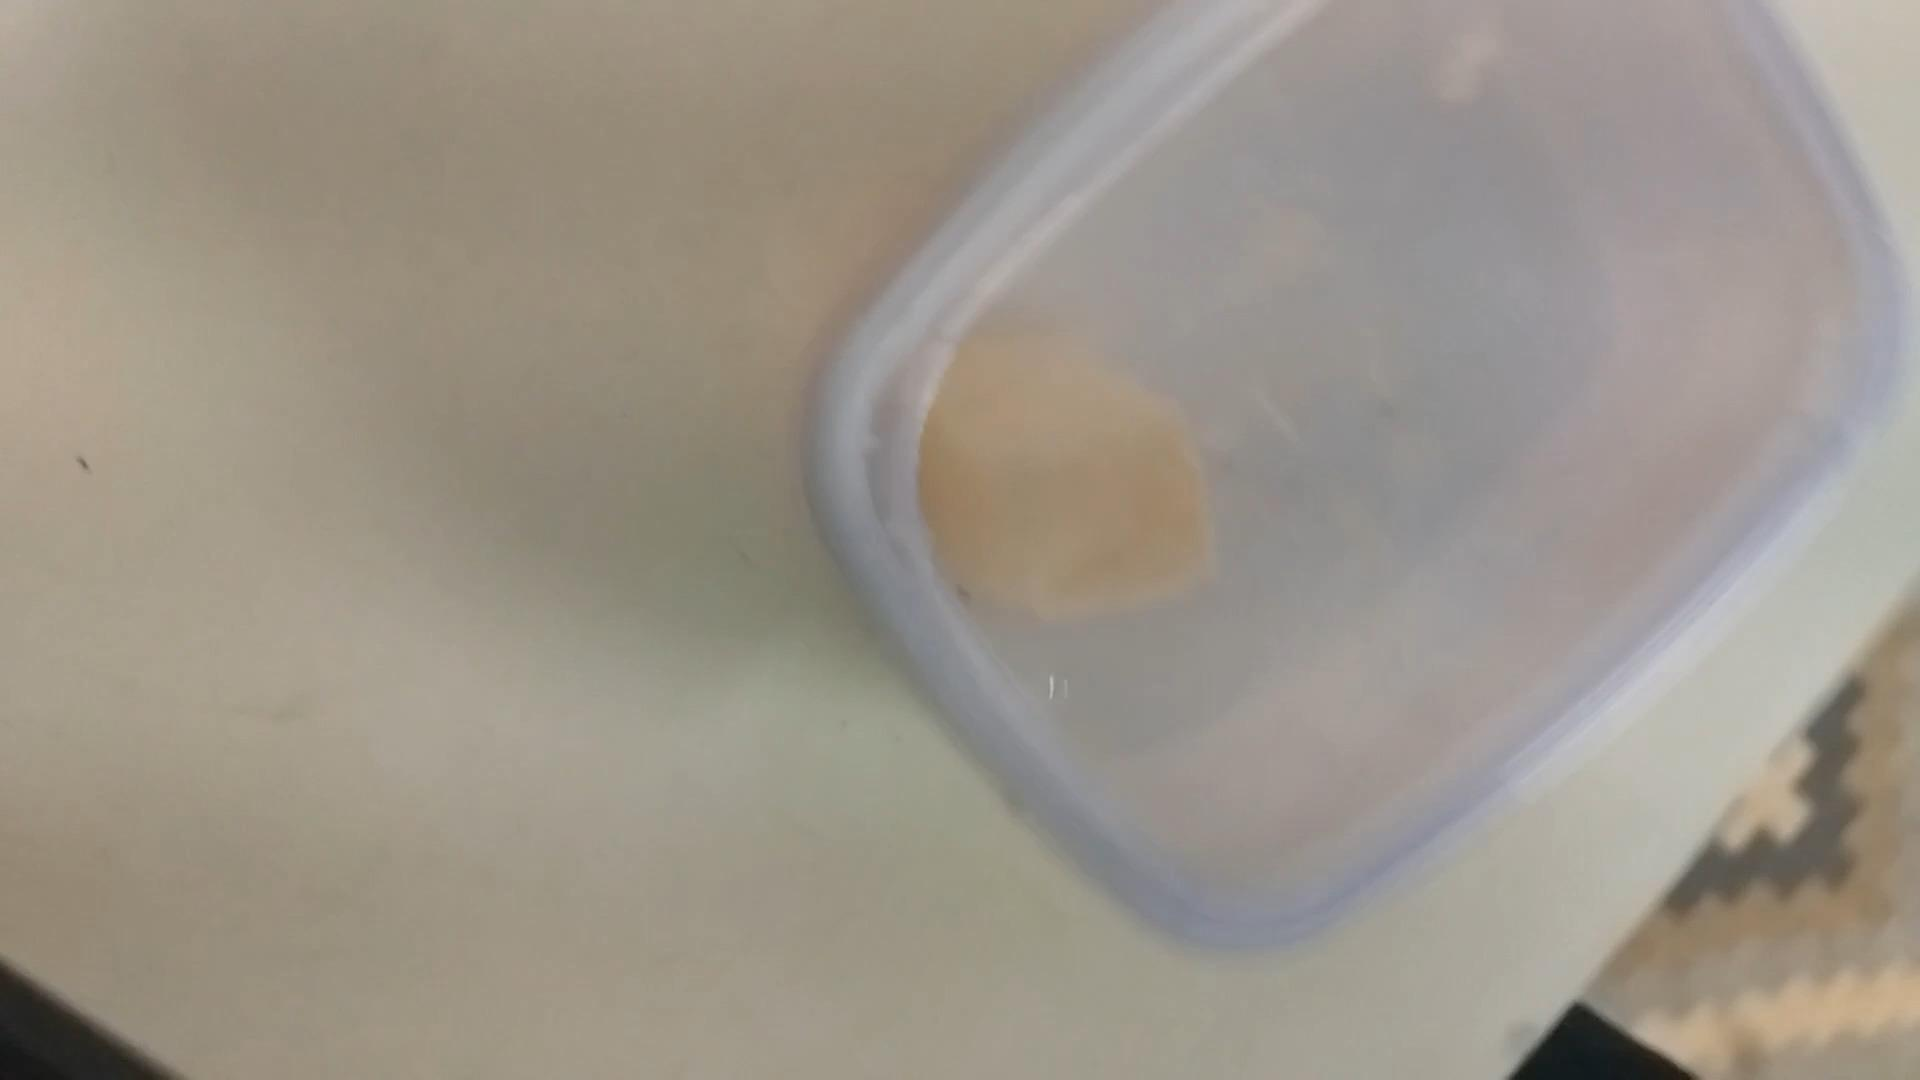butter: (803, 7, 1907, 967)
